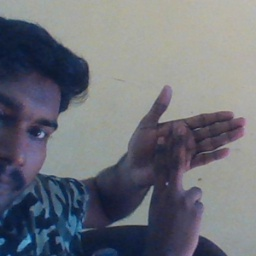N: (115, 79, 248, 223)
